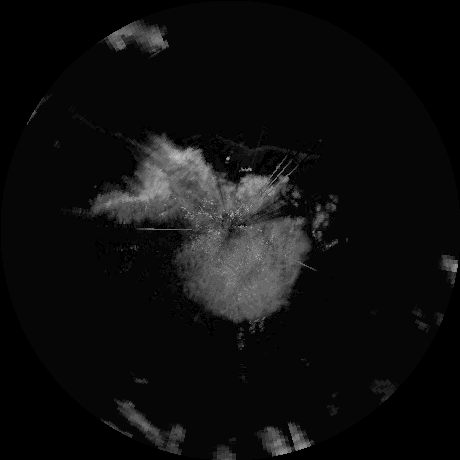frontgust: (220, 134, 315, 161)
